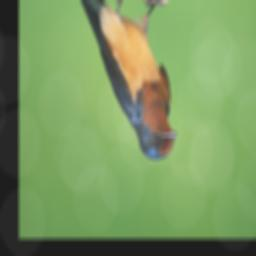Swallow: (76, 0, 179, 162)
